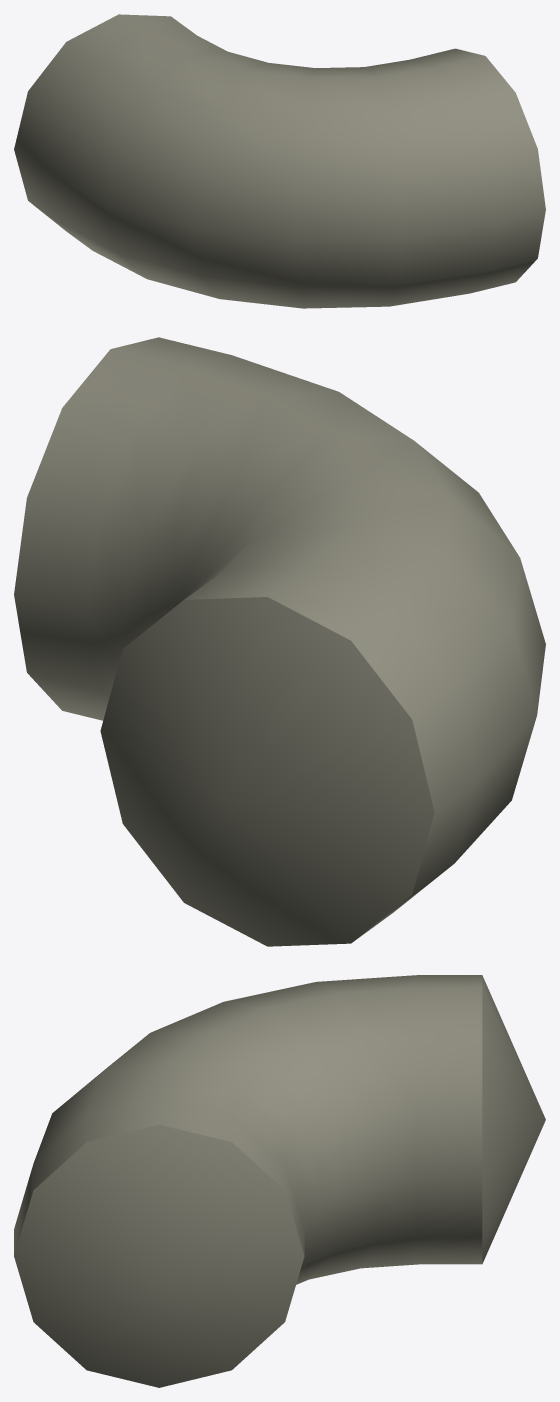
File: pipeset2_turn.fbx
The picture shows the model from 3 angles, top to bottom: view 1: azimuth 30°, elevation 25°; view 2: azimuth 150°, elevation 25°; view 3: azimuth 270°, elevation 25°; orthographic projection. The views are drawn at different scales.
Parts seen in each view (by area): view 1: pipeset2_turn; view 2: pipeset2_turn; view 3: pipeset2_turn.
Part boxes in pixels (box(x1,y1,x2,y2)): pipeset2_turn: box(14, 14, 545, 308); pipeset2_turn: box(14, 337, 545, 946); pipeset2_turn: box(14, 975, 545, 1387).
Bounding box in the file's own units: 256 × 140 × 256.
